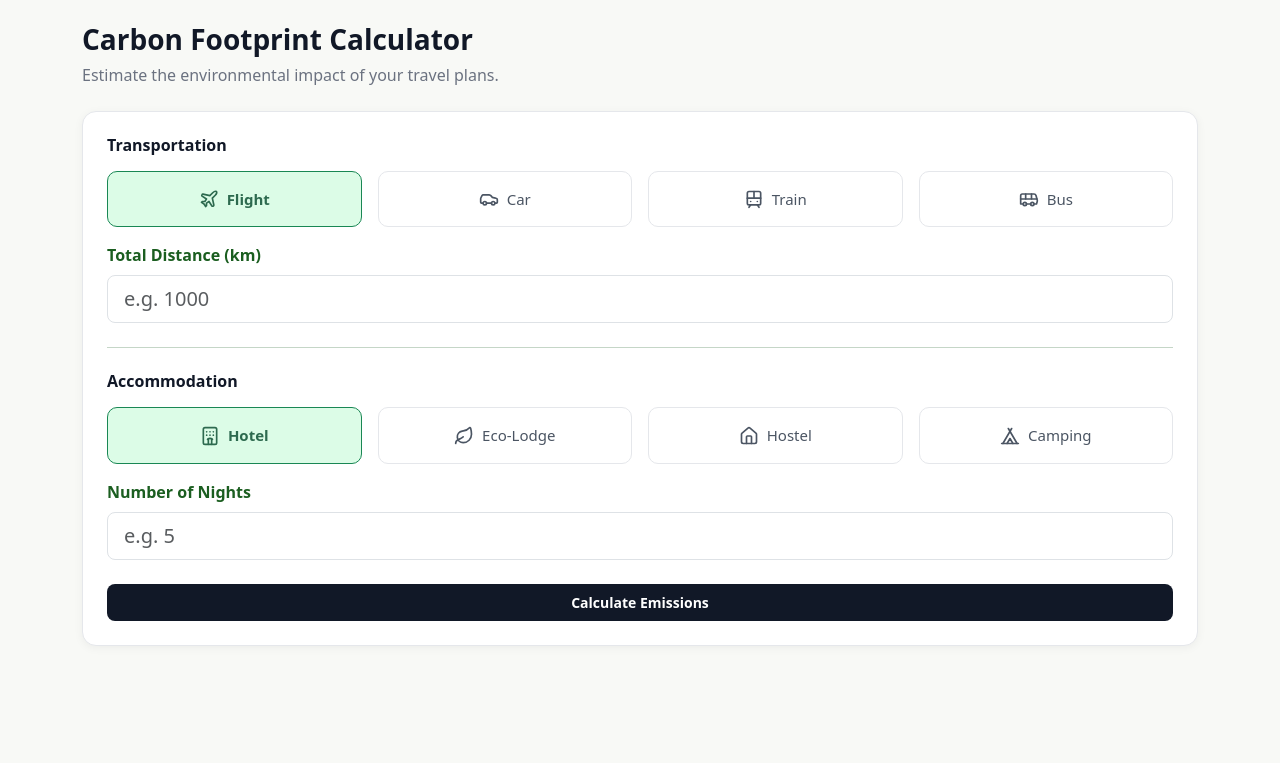
Test: CalculatorPage › calculates emissions using default flight and hotel options
Step 1. Type "1000" into the number field named "total distance" → (640,299), box [107, 275, 1173, 323]
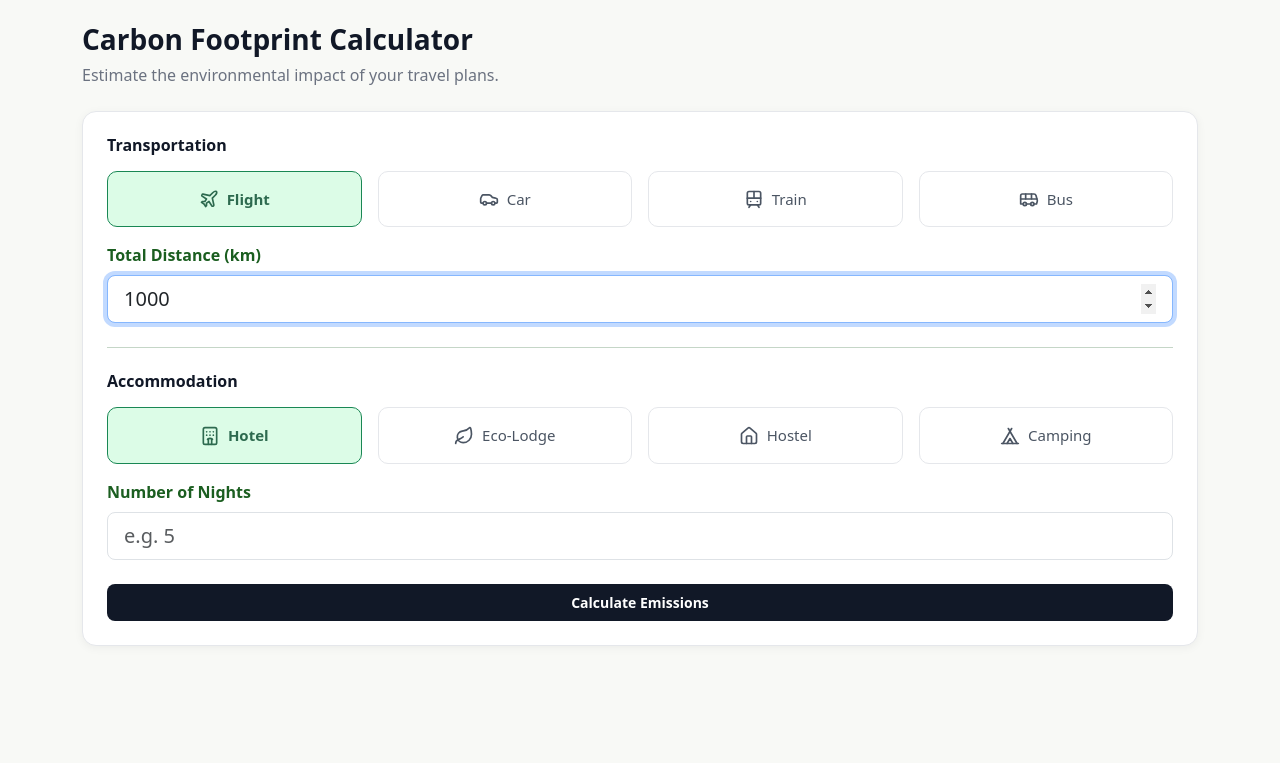
Step 2. Type "5" into the number field named "number of nights" → (640,536), box [107, 512, 1173, 560]
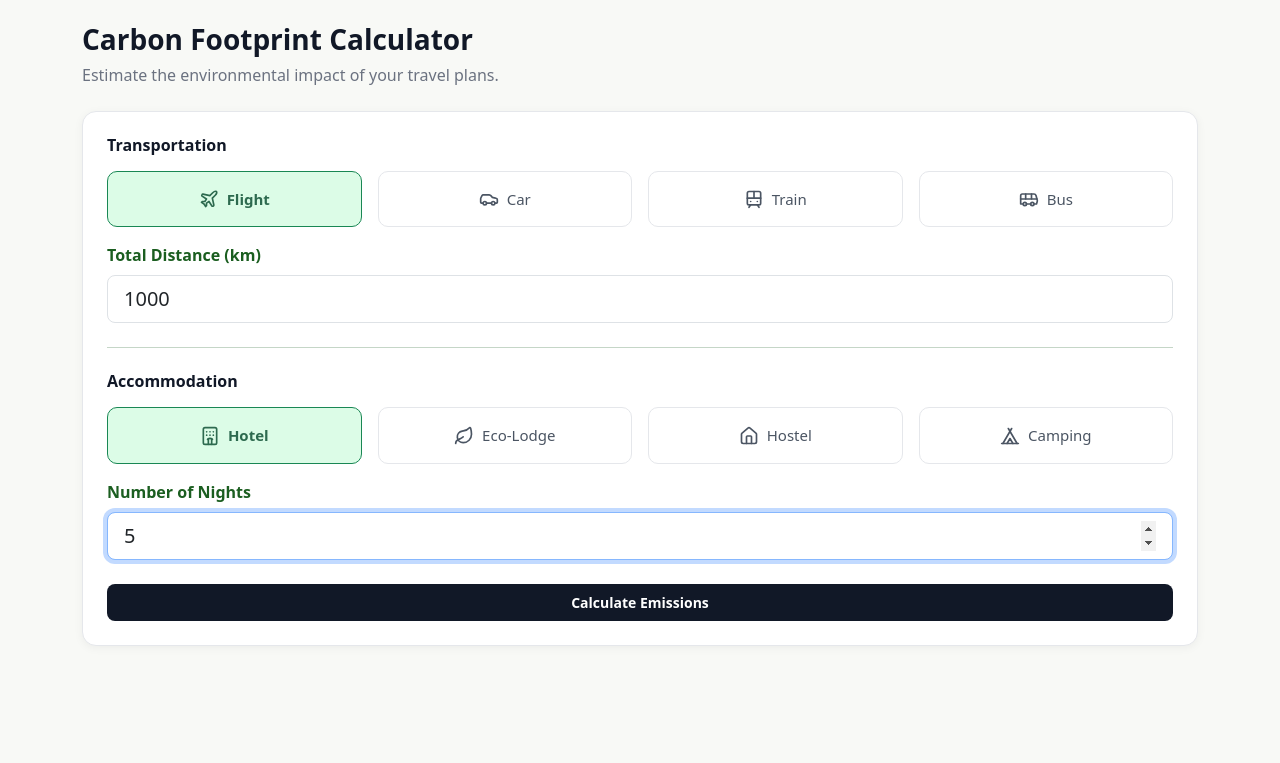
Step 3. Click the button "Calculate Emissions" → (640,602), box [107, 584, 1173, 621]
(page scrolled)
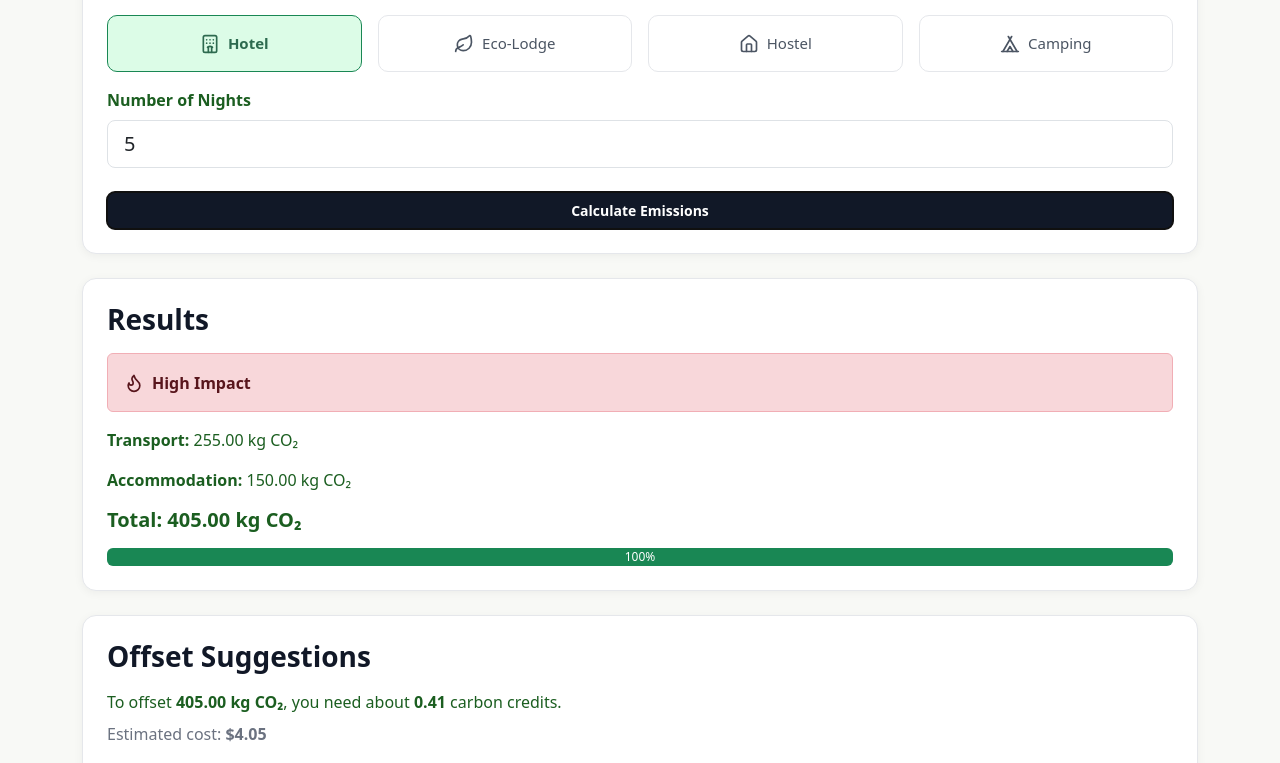
expect the text "255.00 kg CO₂" is shown: met, box [107, 429, 298, 451]
expect the text "150.00 kg CO₂" is shown: met, box [107, 469, 351, 491]
expect the heading "Total: 405.00 kg CO₂" is shown: met, box [107, 506, 302, 533]
